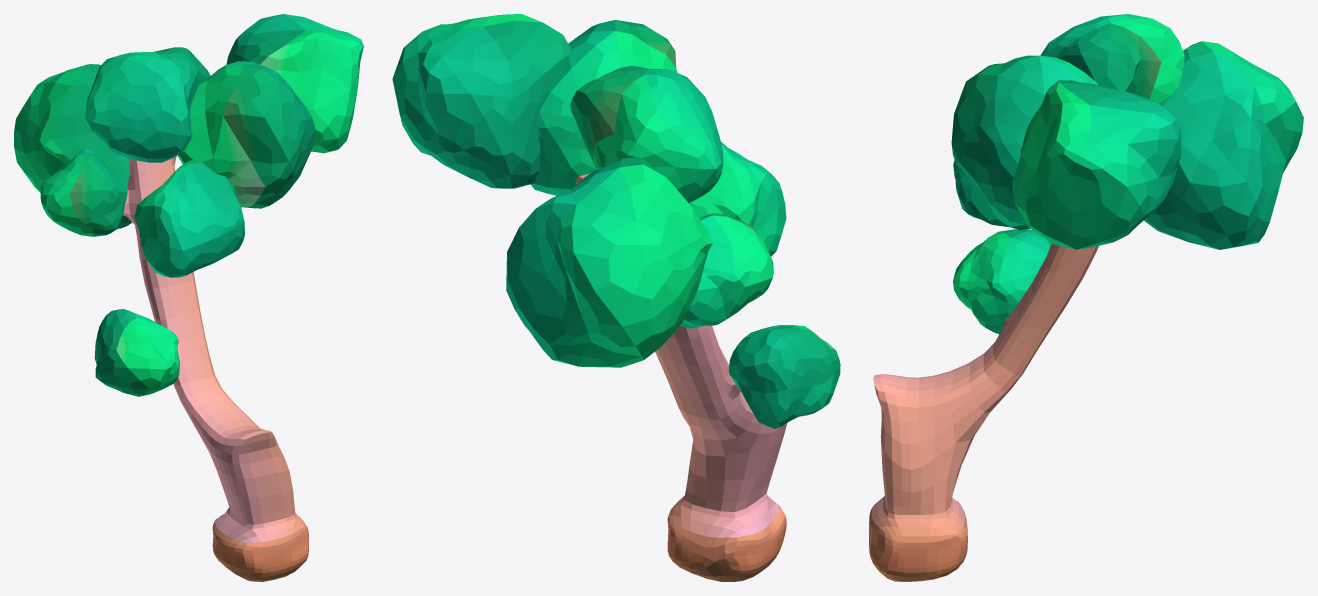
Rendered from Tree1.fbx.
3 views of the same model, side by side, from view 1: azimuth 30°, elevation 25°; view 2: azimuth 150°, elevation 25°; view 3: azimuth 270°, elevation 25° (orthographic). The views are drawn at different scales.
Parts seen in each view (by area): view 1: Cube, Icosphere.001, Icosphere.006, Icosphere, Icosphere.005, Icosphere.002, Icosphere.004, Icosphere.003; view 2: Icosphere.002, Icosphere, Cube, Icosphere.006, Icosphere.001, Icosphere.004, Icosphere.003, Icosphere.005; view 3: Cube, Icosphere, Icosphere.002, Icosphere.001, Icosphere.006, Icosphere.004, Icosphere.005.
Boxes of the visible parts, x1,y1,x2,y2 form: Cube: (122,156,308,581); Icosphere.001: (177,61,316,208); Icosphere.006: (85,47,210,162); Icosphere: (226,14,363,153); Icosphere.005: (134,160,244,277); Icosphere.002: (14,64,131,228); Icosphere.004: (94,309,179,396); Icosphere.003: (40,149,127,236); Icosphere.002: (506,157,712,367); Icosphere: (392,14,571,188); Cube: (575,173,787,581); Icosphere.006: (570,65,723,202); Icosphere.001: (530,20,677,195); Icosphere.004: (728,325,840,428); Icosphere.003: (680,213,773,328); Icosphere.005: (689,142,786,256); Cube: (869,243,1098,581); Icosphere: (1013,80,1181,249); Icosphere.002: (1144,41,1303,249); Icosphere.001: (951,55,1098,225); Icosphere.006: (1040,14,1184,106); Icosphere.004: (953,229,1051,334); Icosphere.005: (953,160,1030,229).
Size of the model in its own units: 316 by 462 by 338.
Materials: 1 (1 with a texture image).
